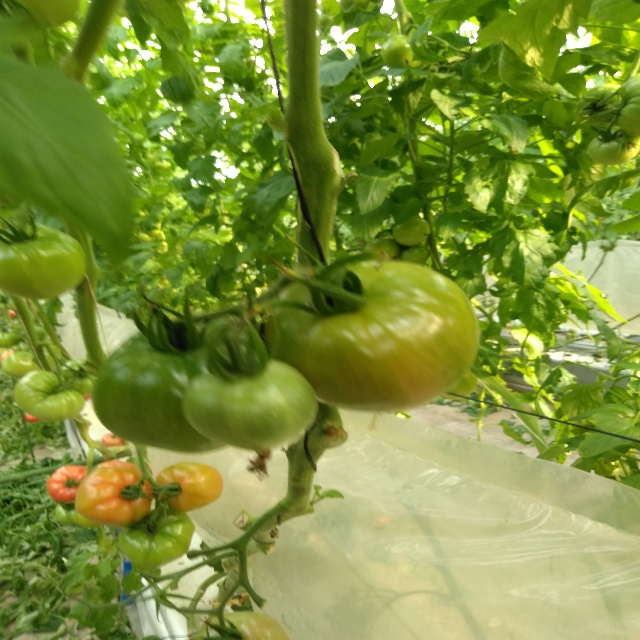b_fully_ripened: (46, 466, 94, 502)
b_green: (264, 260, 483, 414), (92, 320, 266, 454), (179, 356, 319, 450), (0, 224, 87, 298), (120, 505, 195, 568), (15, 371, 85, 422), (196, 611, 291, 640), (585, 128, 640, 165), (577, 83, 623, 125), (617, 73, 640, 136)
b_half_ripened: (75, 467, 153, 526), (156, 462, 224, 513)
